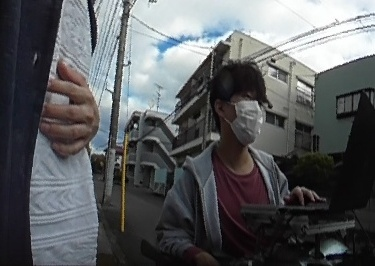person: (167, 57, 294, 266)
